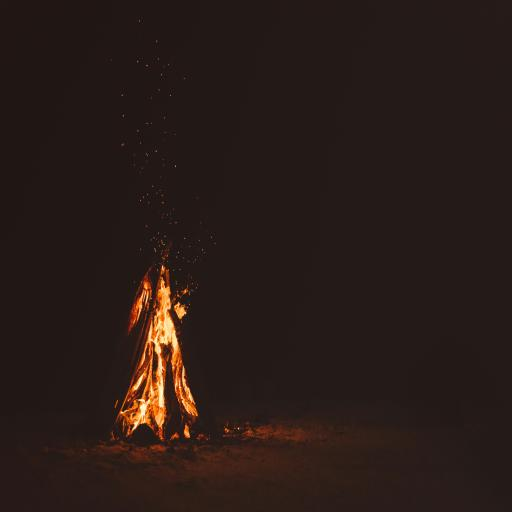campfire: (108, 213, 233, 462)
